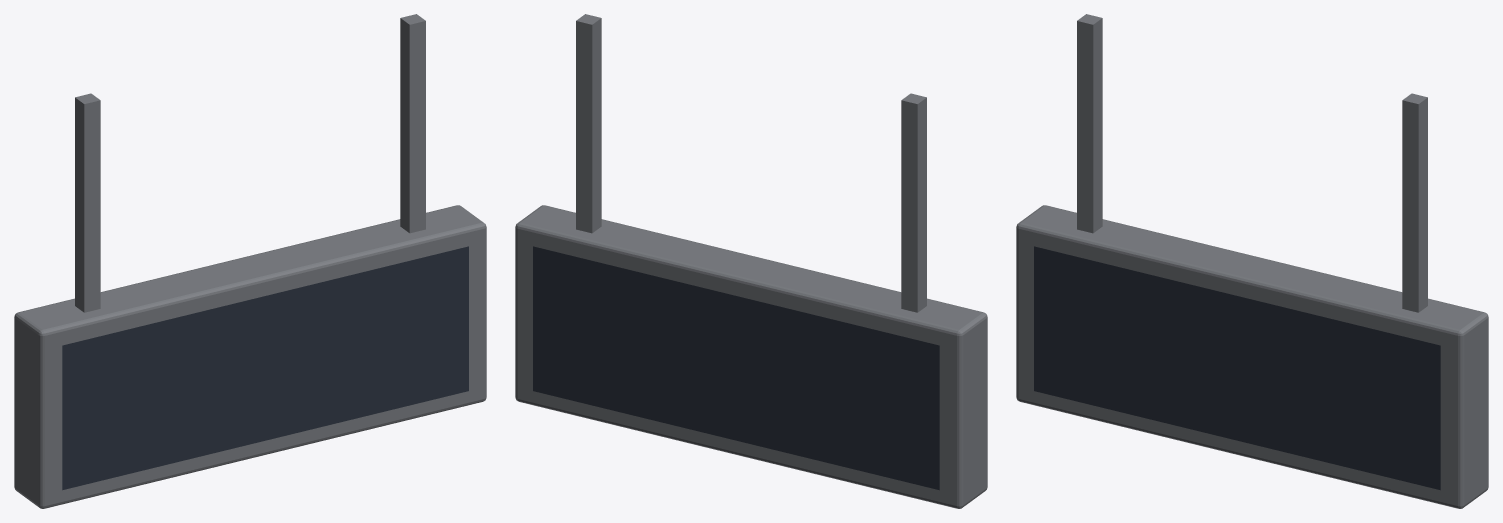
The model's file is pis_screen.glb.
3 renders of one model, left to right at view 1: azimuth 30°, elevation 25°; view 2: azimuth 150°, elevation 25°; view 3: azimuth 330°, elevation 25°, orthographic.
Parts seen in each view (by area): view 1: PIS_Screen_A, Housing, Hanger_-0.4, Hanger_0.4; view 2: PIS_Screen_B, Housing, Hanger_-0.4, Hanger_0.4; view 3: PIS_Screen_A, Housing, Hanger_-0.4, Hanger_0.4.
Boxes of the visible parts, bbox=[...] form: PIS_Screen_A: bbox=[62, 246, 468, 490]; Housing: bbox=[14, 205, 486, 508]; Hanger_-0.4: bbox=[75, 93, 100, 312]; Hanger_0.4: bbox=[400, 14, 425, 233]; PIS_Screen_B: bbox=[533, 246, 939, 490]; Housing: bbox=[515, 205, 987, 508]; Hanger_-0.4: bbox=[901, 93, 926, 312]; Hanger_0.4: bbox=[576, 14, 601, 233]; PIS_Screen_A: bbox=[1034, 246, 1440, 490]; Housing: bbox=[1016, 205, 1488, 508]; Hanger_-0.4: bbox=[1077, 14, 1102, 233]; Hanger_0.4: bbox=[1402, 93, 1427, 312].
Size of the model in its own units: 1.1 by 0.91 by 0.13.
